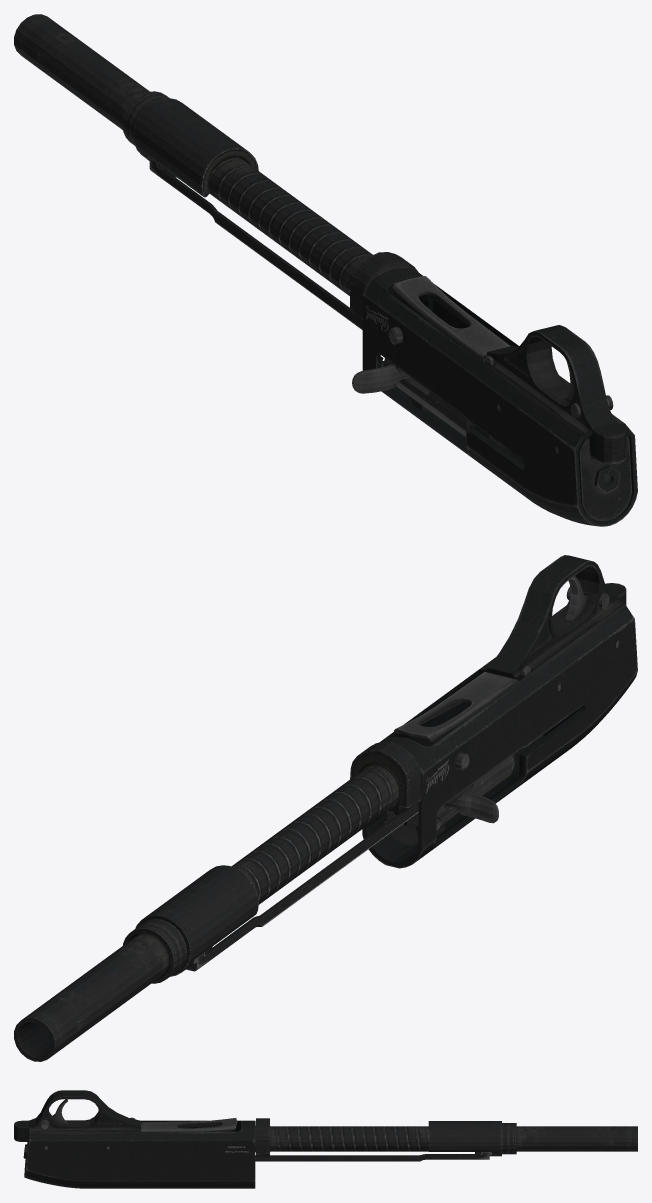
3 views of the same model, one above another, from view 1: azimuth 30°, elevation 25°; view 2: azimuth 150°, elevation 25°; view 3: azimuth 270°, elevation 25° (orthographic). The views are drawn at different scales.
Parts seen in each view (by area): view 1: TW_56dee2bdd2720bc8328b4567_PZ_Import; view 2: TW_56dee2bdd2720bc8328b4567_PZ_Import; view 3: TW_56dee2bdd2720bc8328b4567_PZ_Import.
Boxes of the visible parts, x1,y1,x2,y2 form: TW_56dee2bdd2720bc8328b4567_PZ_Import: [14, 14, 637, 526]; TW_56dee2bdd2720bc8328b4567_PZ_Import: [14, 555, 637, 1061]; TW_56dee2bdd2720bc8328b4567_PZ_Import: [14, 1090, 637, 1188].
Size of the model in its own units: 0.0325 by 0.3191 by 0.0525.
1 material, 1 textured.
